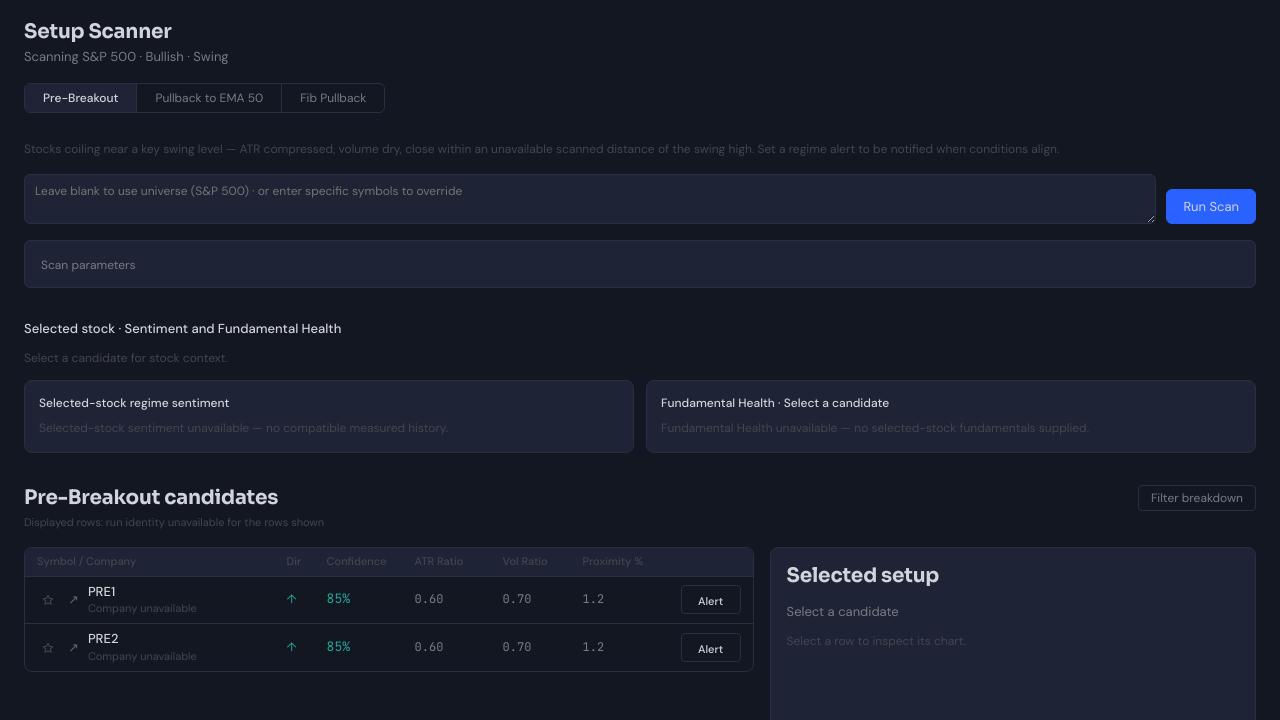
it: Pre-Breakout identity cell selection clicks (#364) › Pre-Breakout mode › clicking identity-cell whitespace selects candidate row
Click the element named "Identity for PRE1" at (117, 599), box [37,582,197,615]
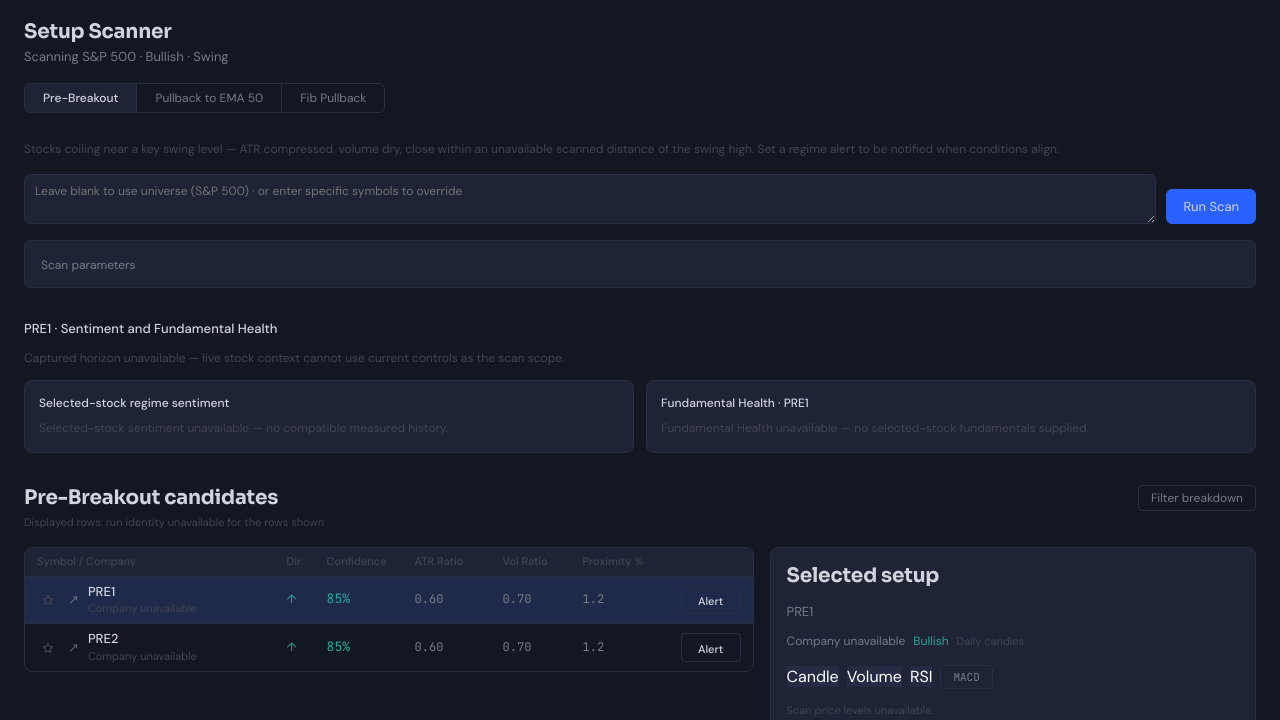
Now the element named "Selected setup" reads "PRE1", box [787,603,813,620]
